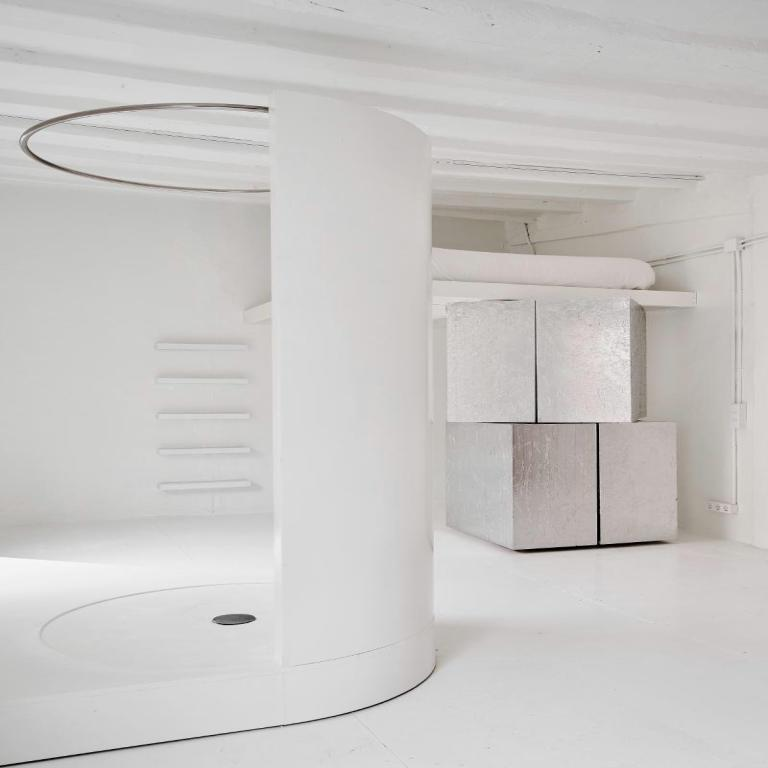white-walls: (22, 221, 277, 495)
